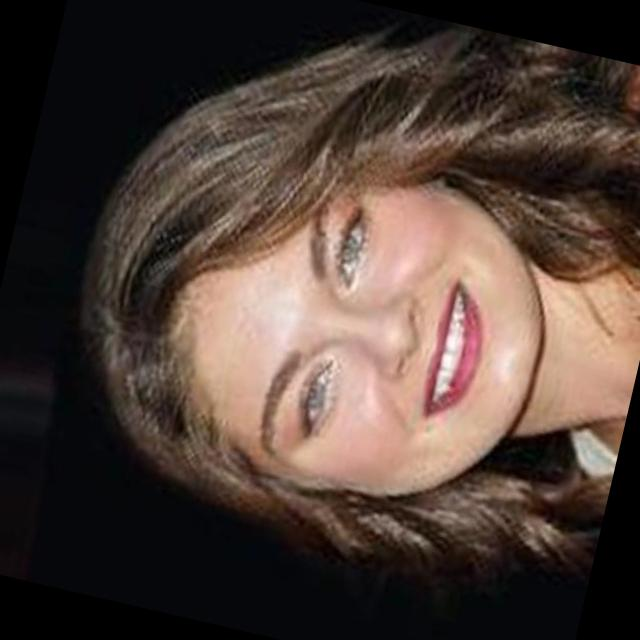bareface: (200, 140, 580, 528)
